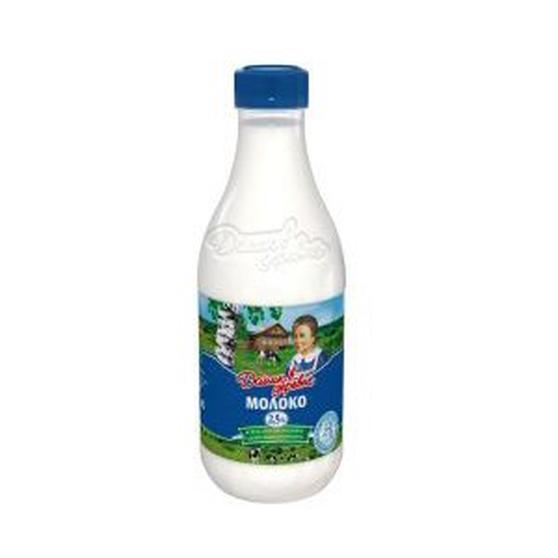milk: (199, 62, 347, 503)
